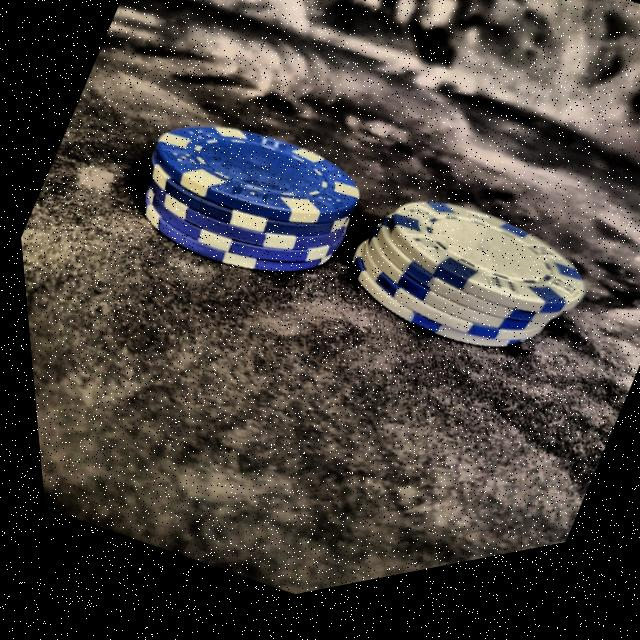Chip: (310, 134, 621, 445), (103, 63, 389, 348)
